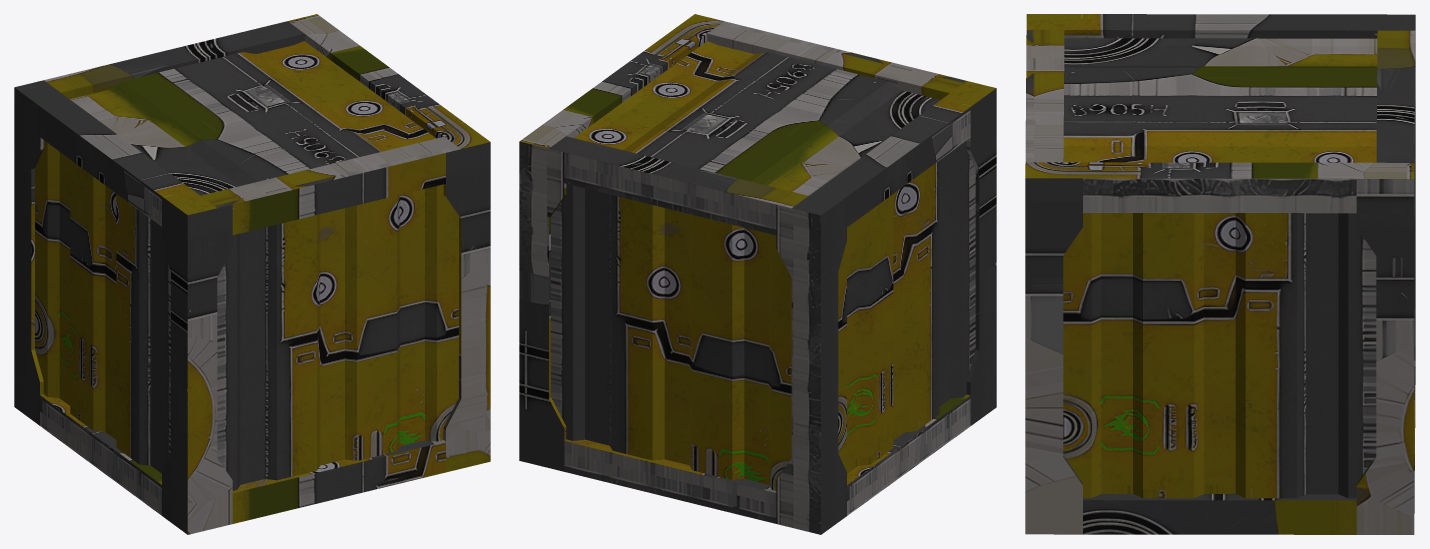
File: crate_dark.obj
3 renders of one model, left to right at view 1: azimuth 30°, elevation 25°; view 2: azimuth 150°, elevation 25°; view 3: azimuth 270°, elevation 25°, orthographic. The views are drawn at different scales.
Visible parts, largest first — view 1: polySurface280_0; view 2: polySurface280_0; view 3: polySurface280_0.
Boxes of the visible parts, bbox=[...] form: polySurface280_0: bbox=[14, 14, 490, 534]; polySurface280_0: bbox=[519, 14, 996, 534]; polySurface280_0: bbox=[1025, 14, 1415, 534].
Bounding box in the file's own units: 62.98 × 63.41 × 62.98.
